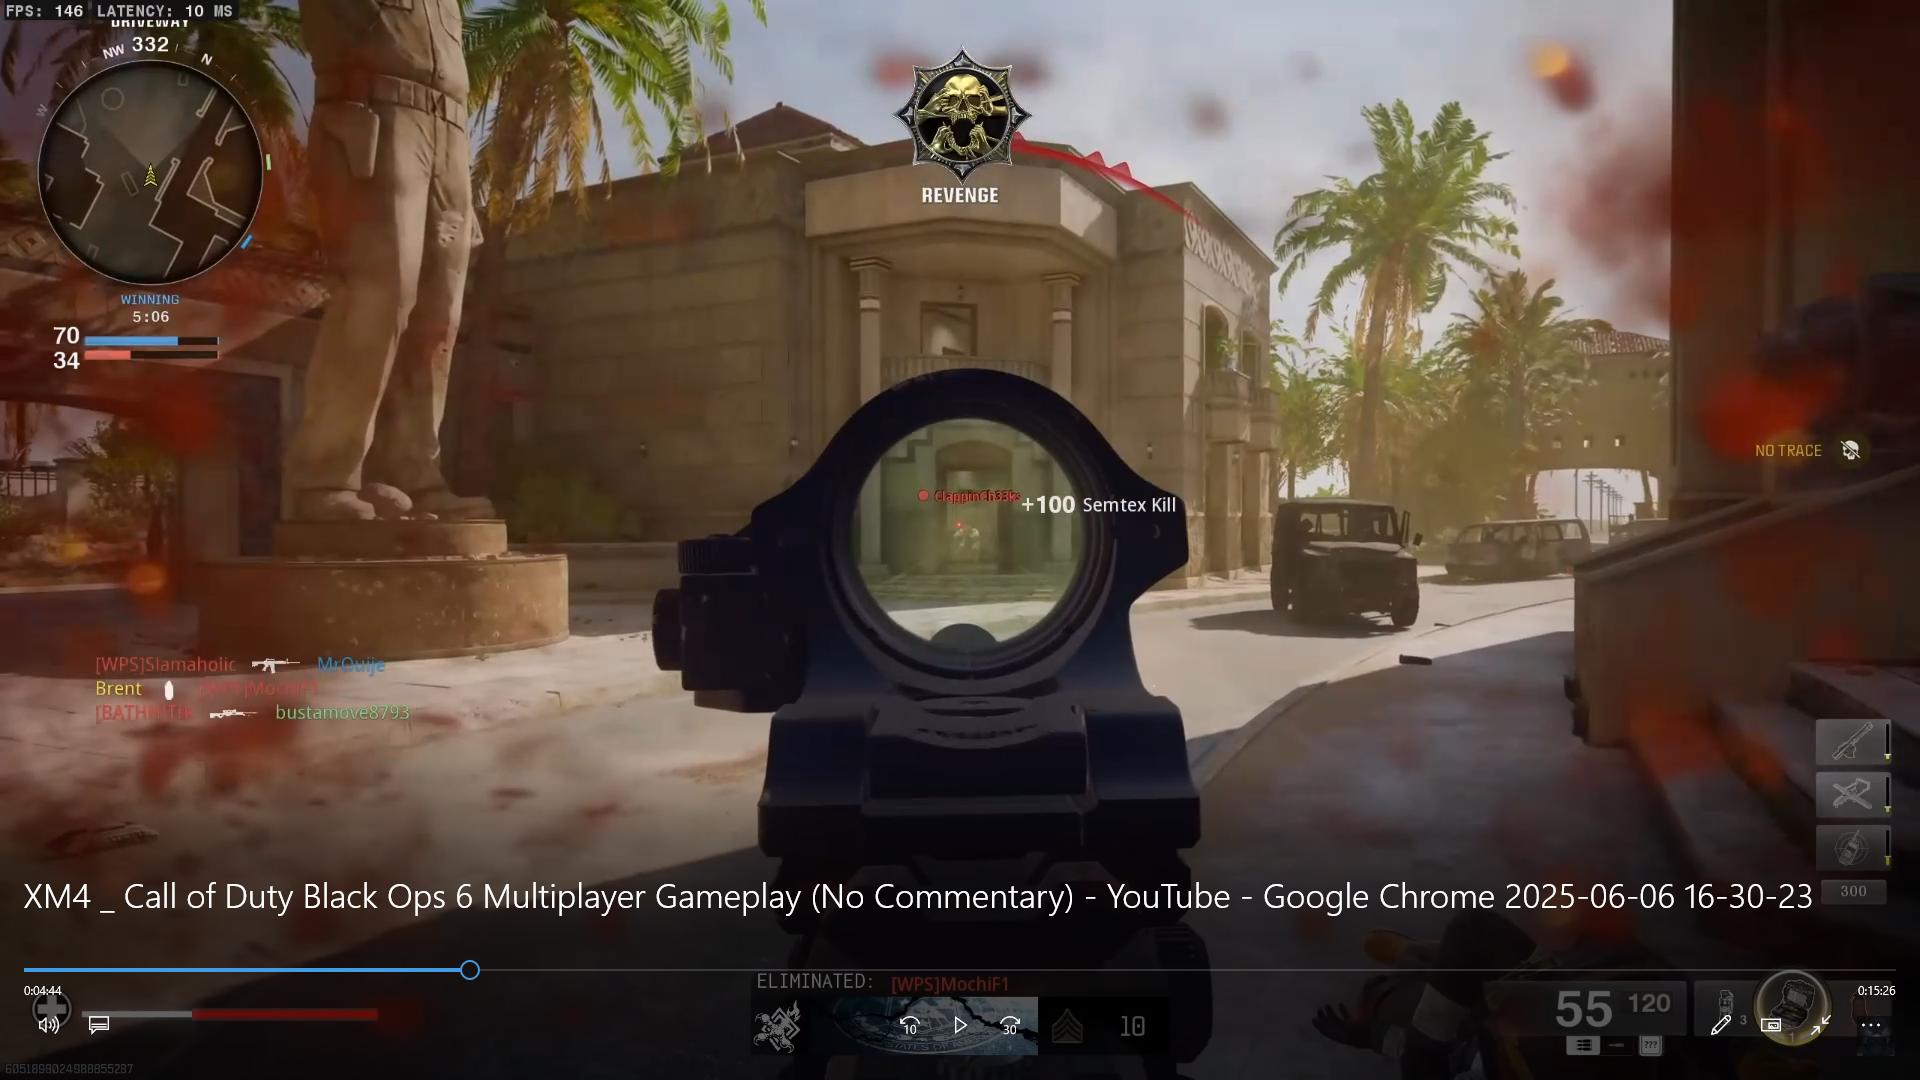Enemy: (948, 509, 989, 562)
